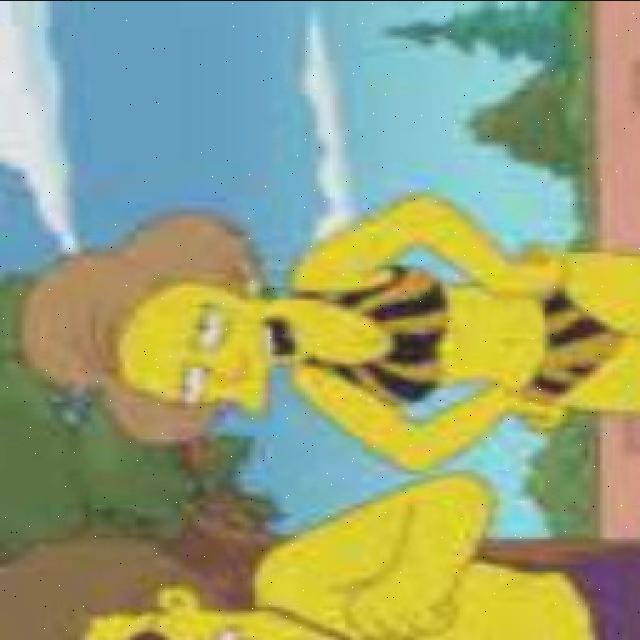Edna Krappel: (16, 210, 314, 454)
